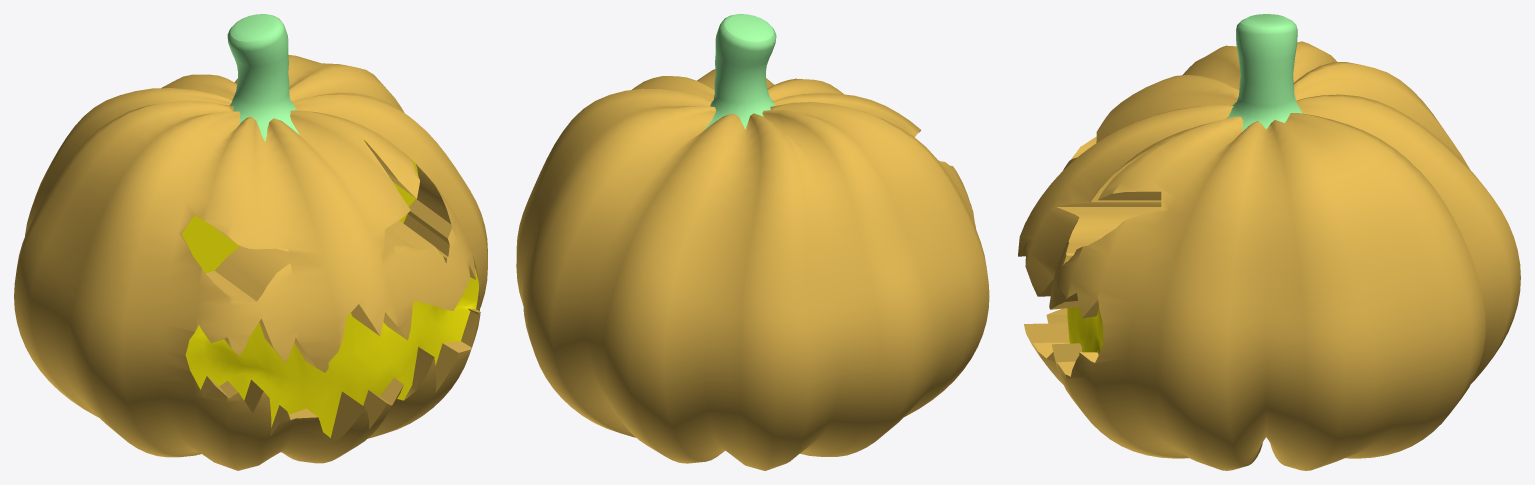
Rendered from PumpKing.fbx.
3 views of the same model, side by side, from view 1: azimuth 30°, elevation 25°; view 2: azimuth 150°, elevation 25°; view 3: azimuth 270°, elevation 25° (orthographic). The views are drawn at different scales.
Parts seen in each view (by area): view 1: PumpKing, PumpkinTop; view 2: PumpKing, PumpkinTop; view 3: PumpKing, PumpkinTop.
Part boxes in pixels (x1=…): PumpKing: x1=14, y1=54, x2=487, y2=470; PumpkinTop: x1=227, y1=14, x2=299, y2=141; PumpKing: x1=516, y1=69, x2=989, y2=470; PumpkinTop: x1=703, y1=14, x2=776, y2=130; PumpKing: x1=1018, y1=41, x2=1520, y2=470; PumpkinTop: x1=1226, y1=14, x2=1302, y2=131.
Bounding box in the file's own units: 4.3 × 4.21 × 4.48.
